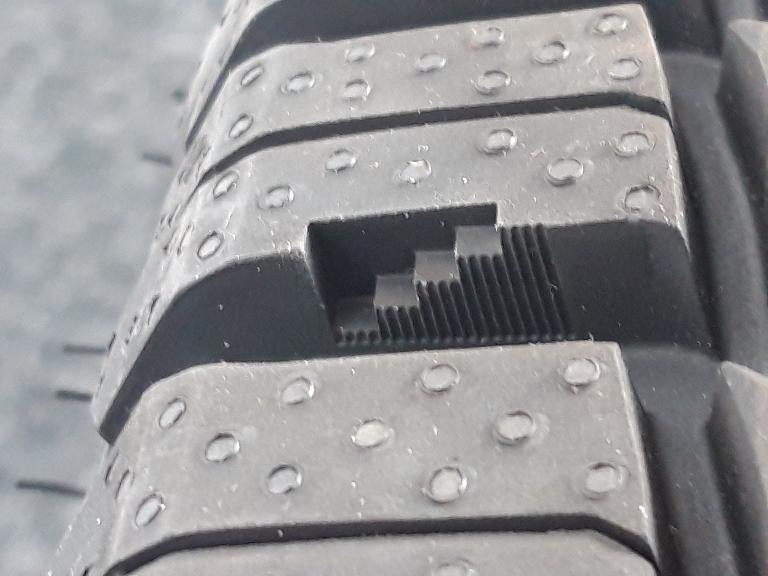temoin:100: (294, 197, 581, 360)
